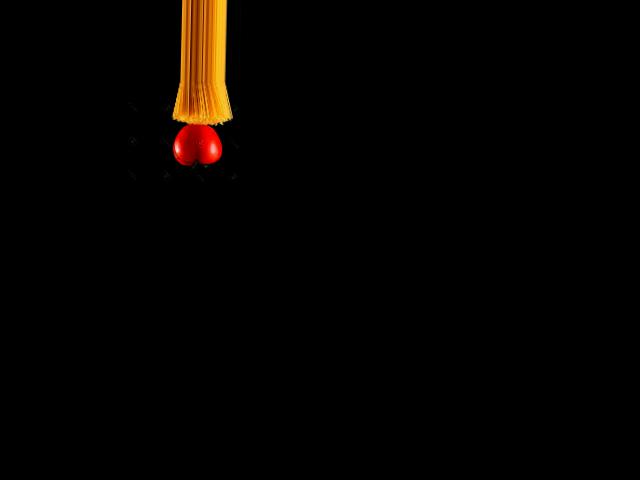tomato: (173, 123, 223, 166)
